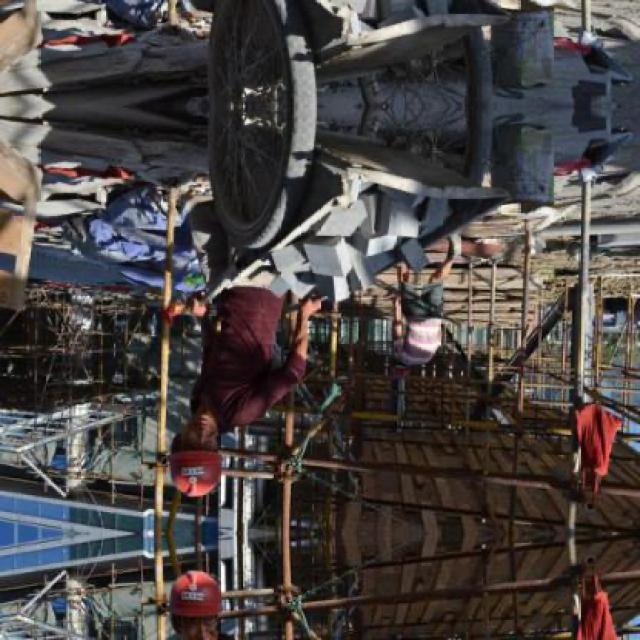con casco: (368, 336, 436, 394)
